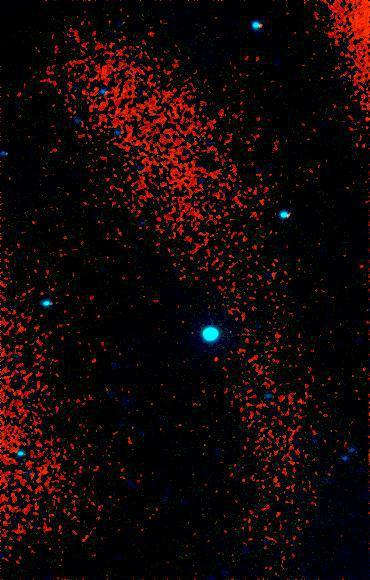star: (200, 345, 230, 375)
